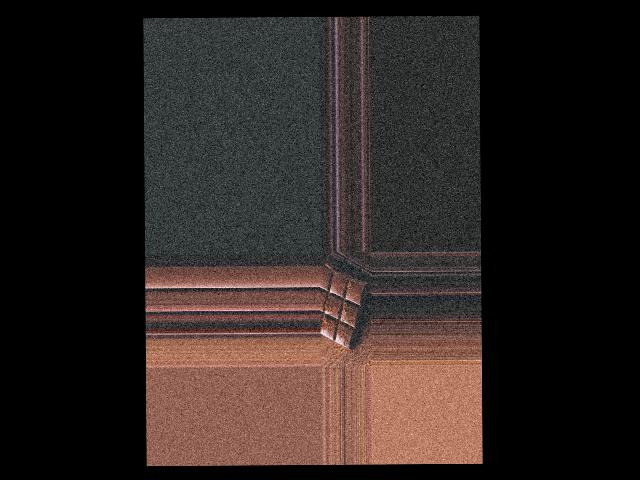chocolate: (320, 264, 368, 353)
